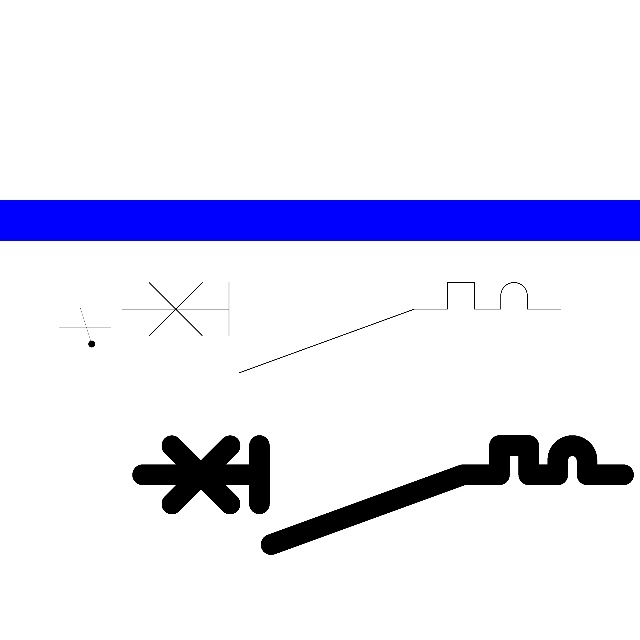interruptor_termomagnetico: (130, 433, 636, 557), (111, 271, 571, 383)
